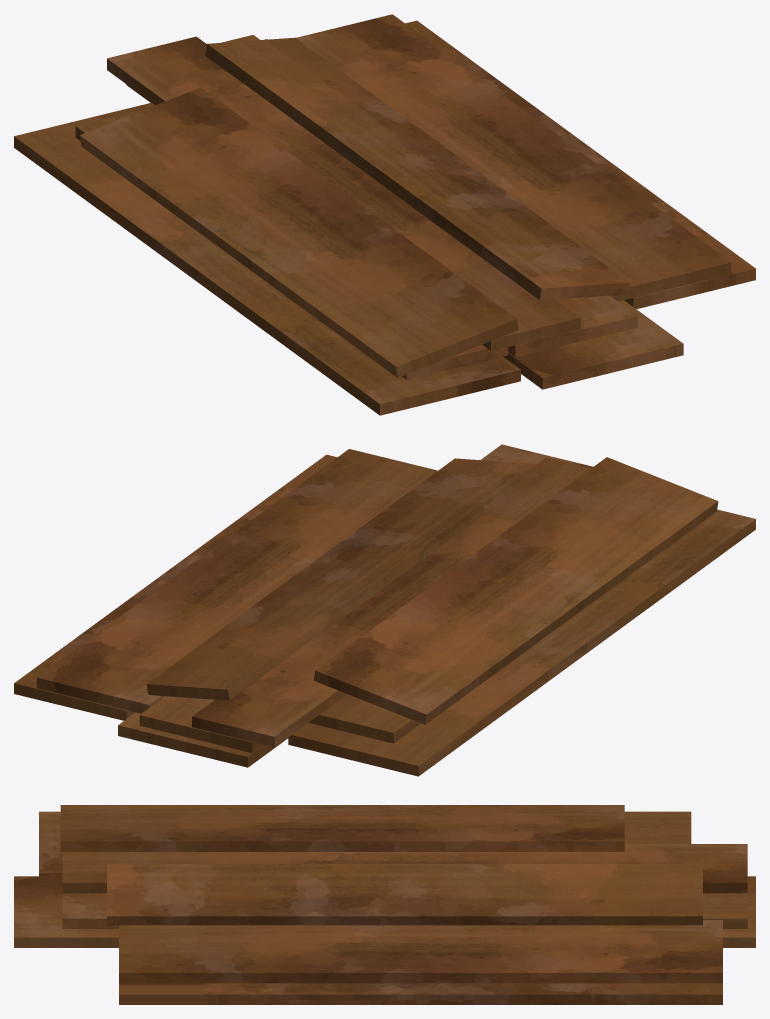
The model's file is Tabua.fbx.
3 views of the same model, one above another, from view 1: azimuth 30°, elevation 25°; view 2: azimuth 150°, elevation 25°; view 3: azimuth 270°, elevation 25° (orthographic). The views are drawn at different scales.
Parts seen in each view (by area): view 1: Tabua_MESH8, Tabua_MESH3, Tabua_MESH7, Tabua, Tabua_MESH6, Tabua_MESH1, Tabua_MESH2, Tabua_MESH4, Tabua_MESH5; view 2: Tabua_MESH8, Tabua_MESH3, Tabua_MESH7, Tabua, Tabua_MESH6, Tabua_MESH2, Tabua_MESH1, Tabua_MESH5, Tabua_MESH4; view 3: Tabua_MESH7, Tabua_MESH3, Tabua_MESH8, Tabua_MESH2, Tabua_MESH6, Tabua_MESH1, Tabua_MESH4, Tabua, Tabua_MESH5.
Boxes of the visible parts, x1=… form: Tabua_MESH8: x1=79, y1=87, x2=518, y2=377; Tabua_MESH3: x1=296, y1=14, x2=731, y2=301; Tabua_MESH7: x1=205, y1=37, x2=629, y2=300; Tabua: x1=14, y1=102, x2=520, y2=415; Tabua_MESH6: x1=107, y1=36, x2=580, y2=350; Tabua_MESH1: x1=126, y1=39, x2=683, y2=389; Tabua_MESH2: x1=405, y1=20, x2=755, y2=309; Tabua_MESH4: x1=220, y1=35, x2=637, y2=357; Tabua_MESH5: x1=75, y1=108, x2=508, y2=379; Tabua_MESH8: x1=313, y1=457, x2=718, y2=724; Tabua_MESH3: x1=36, y1=449, x2=437, y2=713; Tabua_MESH7: x1=146, y1=458, x2=537, y2=700; Tabua: x1=288, y1=509, x2=755, y2=776; Tabua_MESH6: x1=192, y1=457, x2=590, y2=747; Tabua_MESH2: x1=14, y1=454, x2=336, y2=720; Tabua_MESH1: x1=118, y1=444, x2=593, y2=767; Tabua_MESH5: x1=308, y1=694, x2=420, y2=743; Tabua_MESH4: x1=139, y1=456, x2=523, y2=752; Tabua_MESH7: x1=107, y1=864, x2=702, y2=925; Tabua_MESH3: x1=119, y1=920, x2=722, y2=983; Tabua_MESH8: x1=60, y1=805, x2=624, y2=851; Tabua_MESH2: x1=119, y1=983, x2=722, y2=1004; Tabua_MESH6: x1=62, y1=844, x2=747, y2=893; Tabua_MESH1: x1=14, y1=876, x2=755, y2=947; Tabua_MESH4: x1=62, y1=893, x2=747, y2=928; Tabua: x1=39, y1=811, x2=691, y2=876; Tabua_MESH5: x1=624, y1=820, x2=660, y2=843.
Size of the model in its own units: 95.51 by 11.11 by 164.
Materials: 1 (1 with a texture image).
